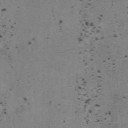oxide scale of temperature system: (84, 20, 95, 29), (85, 98, 90, 104), (82, 78, 86, 85), (78, 38, 82, 42)
